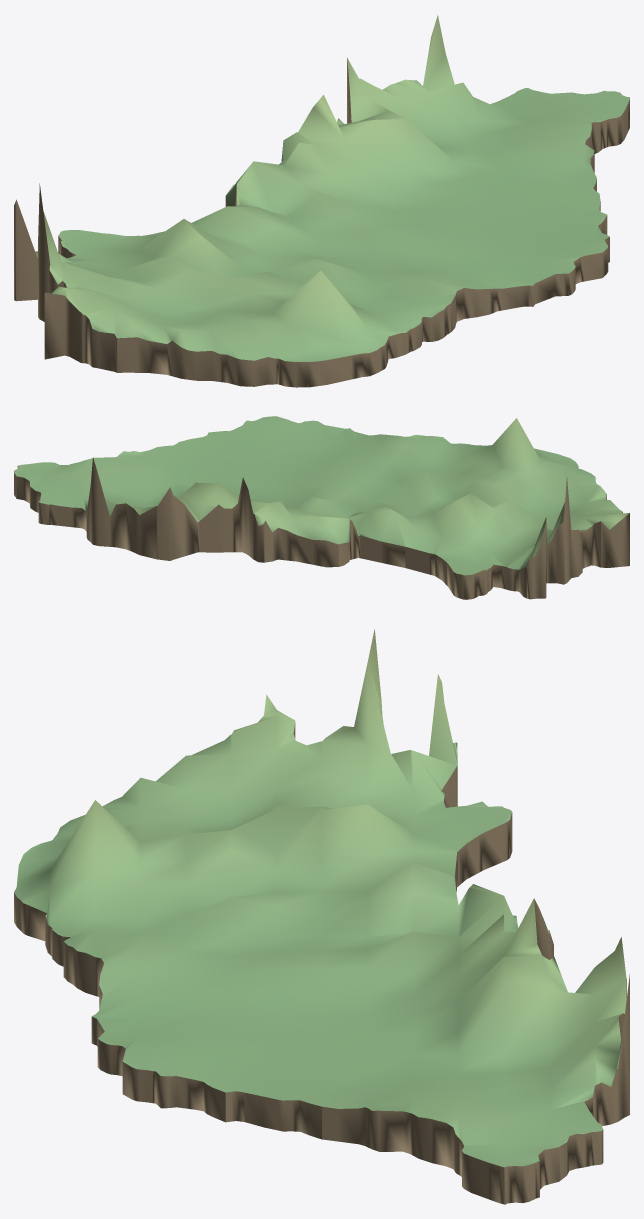
File: HUN.glb
3 views of the same model, one above another, from view 1: azimuth 30°, elevation 25°; view 2: azimuth 150°, elevation 25°; view 3: azimuth 270°, elevation 25° (orthographic). The views are drawn at different scales.
Parts seen in each view (by area): view 1: HUN; view 2: HUN; view 3: HUN.
Boxes of the visible parts, x1=… form: HUN: x1=14, y1=15, x2=629, y2=387; HUN: x1=14, y1=416, x2=629, y2=599; HUN: x1=14, y1=629, x2=629, y2=1204.
Size of the model in its own units: 1.76 by 0.338 by 1.08.
